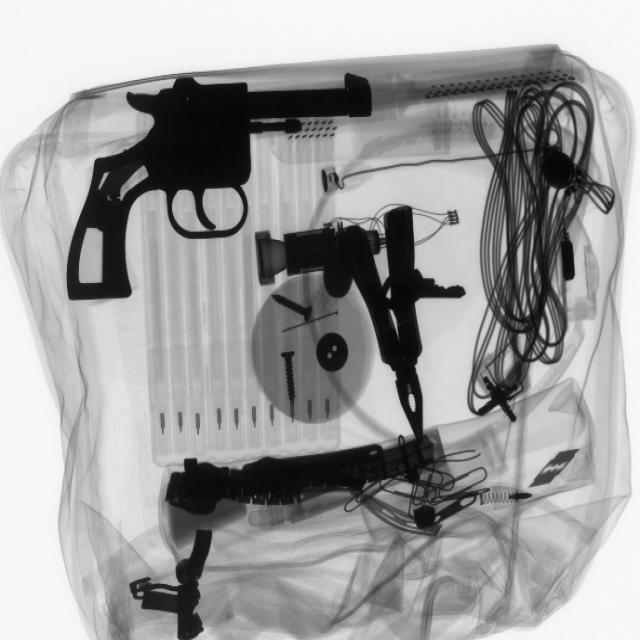BLADE: (530, 443, 582, 494)
GUN: (69, 79, 386, 307)
SCREW: (260, 288, 323, 331), (274, 342, 316, 406)
